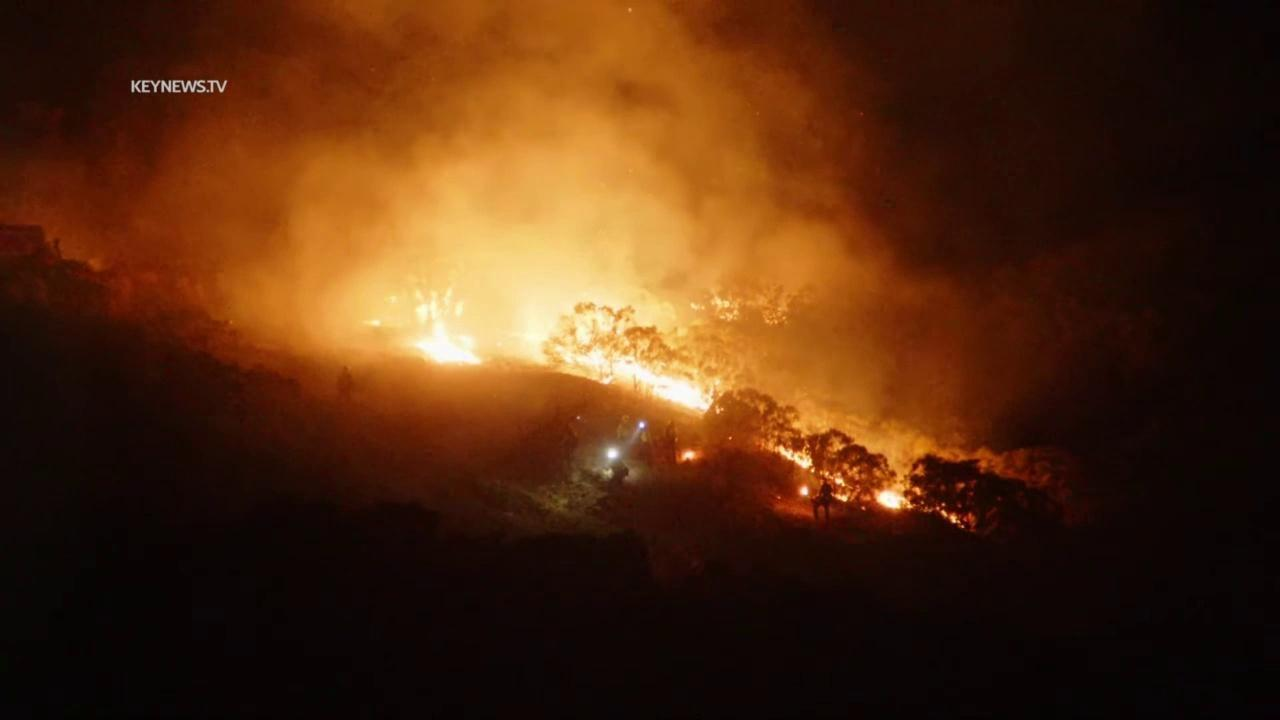fire: (520, 290, 727, 415), (406, 287, 483, 365), (759, 438, 816, 474), (876, 485, 924, 512), (689, 291, 735, 318), (819, 470, 855, 503), (935, 499, 967, 530), (367, 316, 380, 329), (682, 448, 693, 462), (799, 485, 810, 497), (860, 505, 869, 513)
smoke: (146, 5, 1162, 485)
